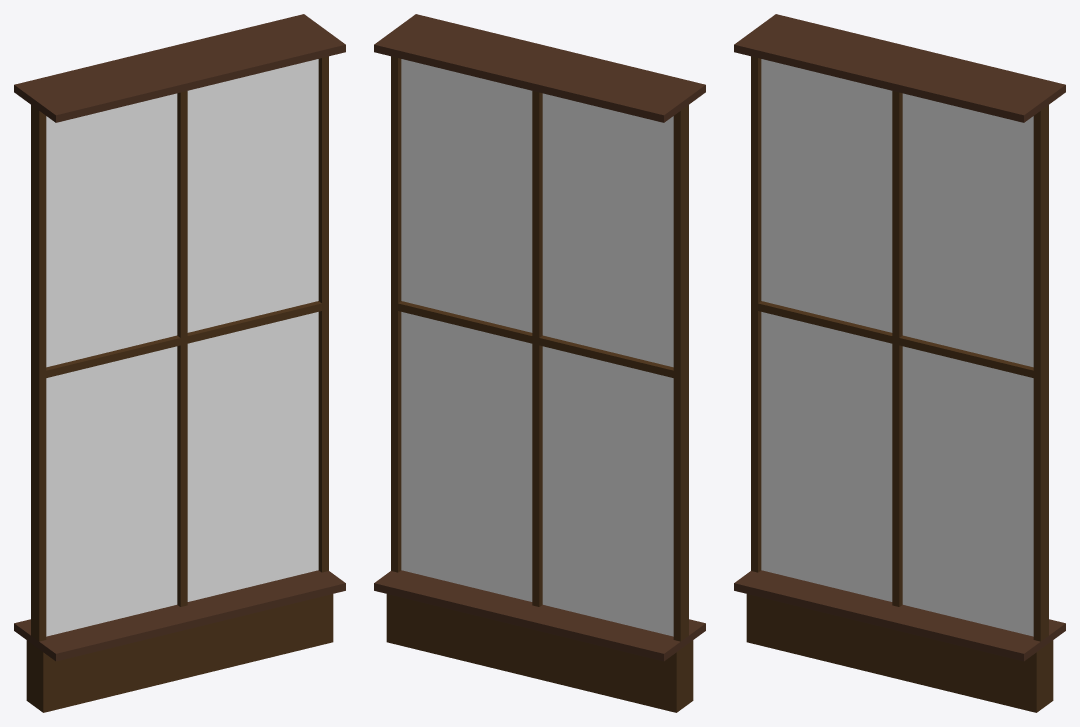
File: SM_Window.fbx
The picture shows the model from 3 angles, left to right: view 1: azimuth 30°, elevation 25°; view 2: azimuth 150°, elevation 25°; view 3: azimuth 330°, elevation 25°; orthographic projection.
Parts seen in each view (by area): view 1: Window; view 2: Window; view 3: Window.
Part boxes in pixels (left/top/right/bottom): Window: left=14, top=14, right=345, bottom=712; Window: left=374, top=14, right=705, bottom=712; Window: left=734, top=14, right=1065, bottom=712.
Bounding box in the file's own units: 100 × 200 × 25.
